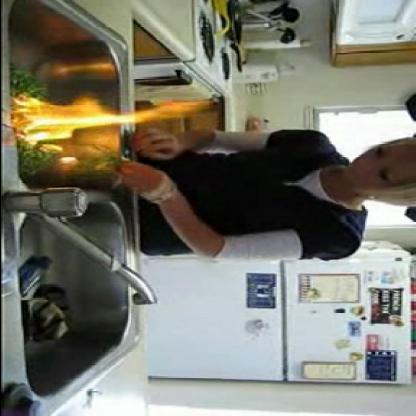Fire: (21, 93, 209, 142)
